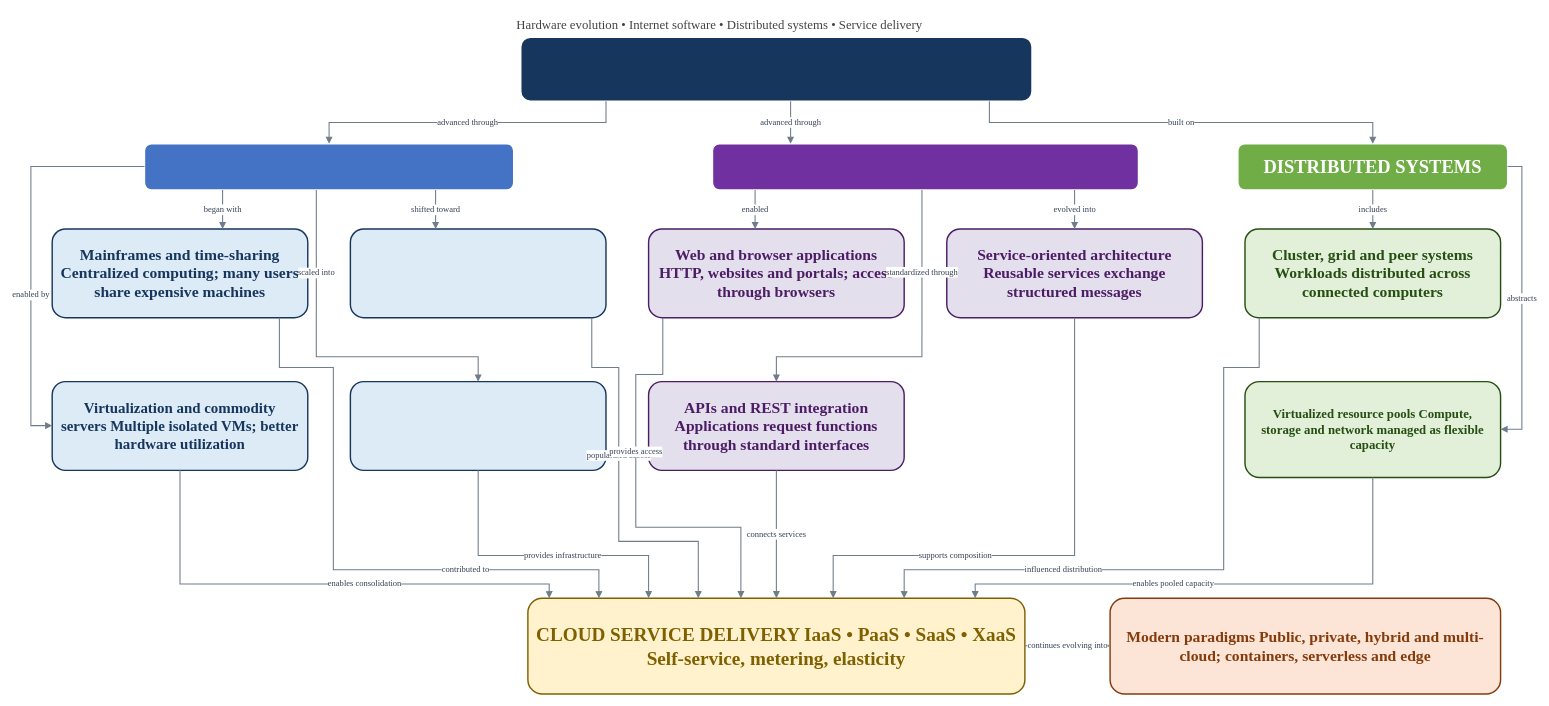
Image size: 1549x706. Some labels were removed from this diagram. Here are the shapes that lost their labels. From the top down, the centre of each, then its label:
the point at 776,69: EVOLUTION OF CLOUD COMPUTING
the point at 328,166: HARDWARE EVOLUTION
the point at 925,166: INTERNET & SOFTWARE EVOLUTION
the point at 477,273: Personal computers Affordable local computing; client-server applications
the point at 477,426: Data centres and high-speed networks Server farms, automation and redundancy
